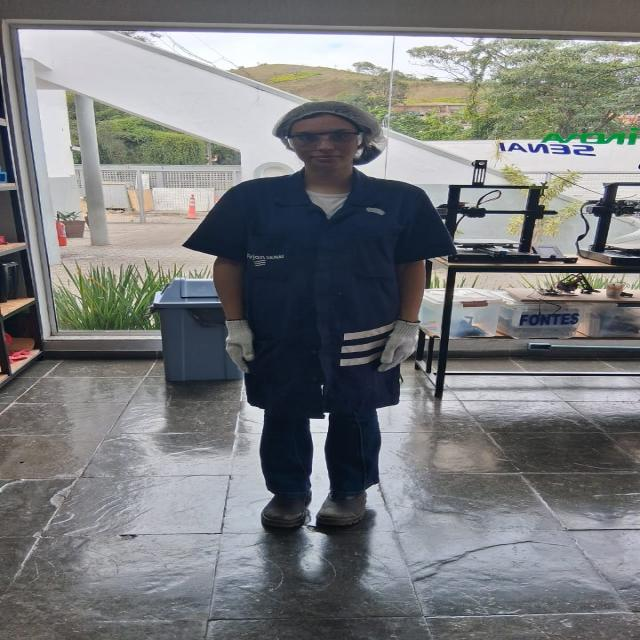BOTA: (253, 480, 321, 528), (320, 472, 374, 524)
JALECO: (181, 161, 465, 422)
LUVA: (371, 318, 431, 378), (220, 316, 253, 373)
OCULOS: (285, 130, 370, 153)
TOUCA: (275, 105, 390, 166)
